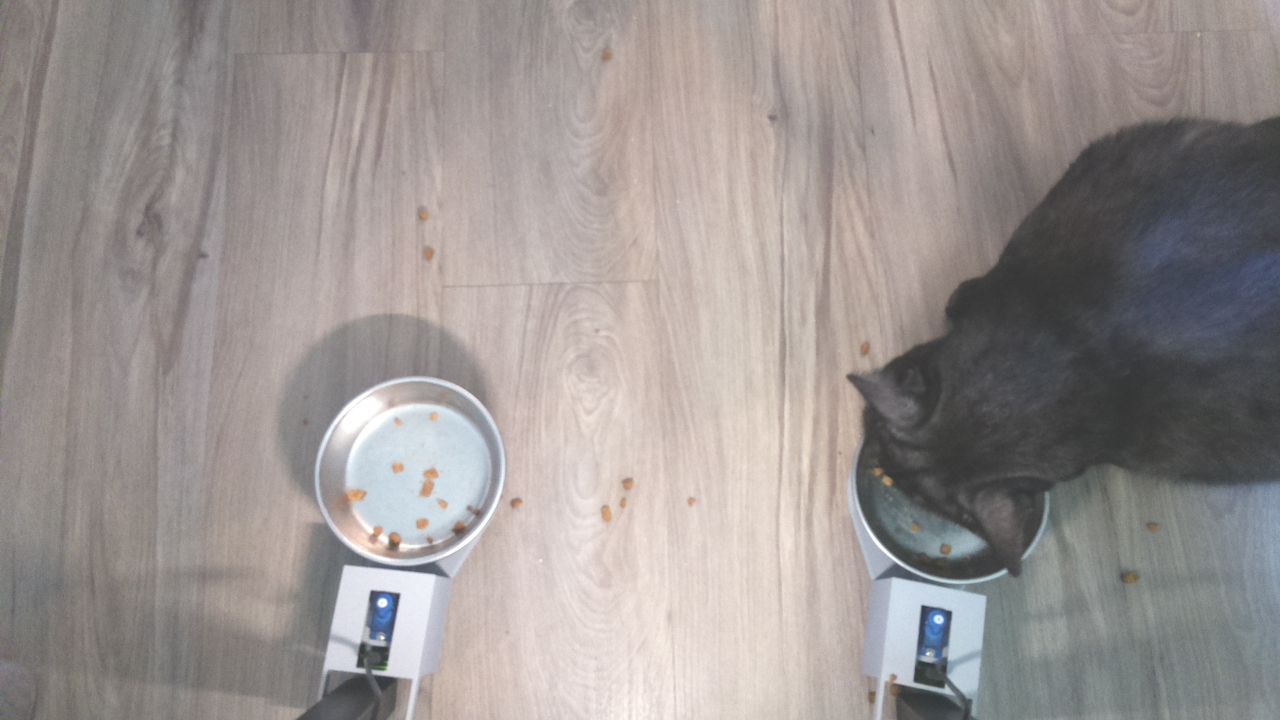open_bowl: (311, 370, 509, 571)
saki_eating: (827, 321, 1089, 590)
